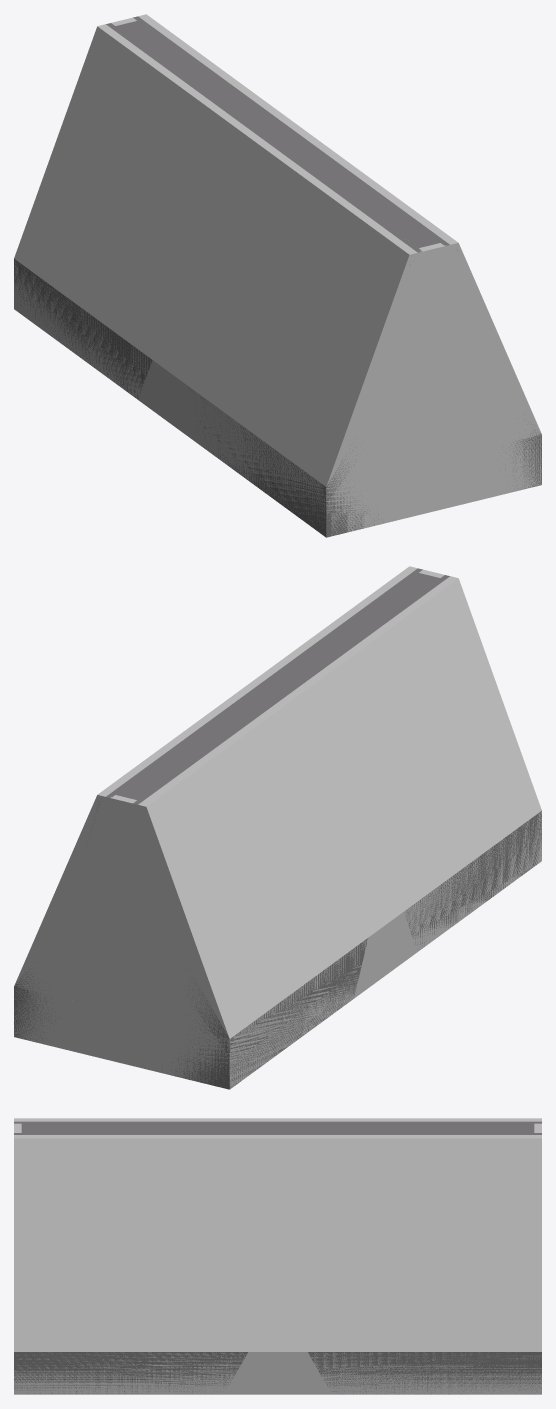
Rendered from SM_Barrier_02_b.fbx.
The picture shows the model from 3 angles, top to bottom: view 1: azimuth 30°, elevation 25°; view 2: azimuth 150°, elevation 25°; view 3: azimuth 270°, elevation 25°; orthographic projection. The views are drawn at different scales.
Visible parts, largest first — view 1: SM_Barrier_02_b_ConvexHulls, SM_Barrier_02_b; view 2: SM_Barrier_02_b_ConvexHulls, SM_Barrier_02_b; view 3: SM_Barrier_02_b_ConvexHulls, SM_Barrier_02_b.
Boxes of the visible parts, bbox=[...] form: SM_Barrier_02_b_ConvexHulls: bbox=[14, 14, 541, 535]; SM_Barrier_02_b: bbox=[14, 16, 541, 537]; SM_Barrier_02_b_ConvexHulls: bbox=[14, 566, 541, 1089]; SM_Barrier_02_b: bbox=[14, 568, 541, 1089]; SM_Barrier_02_b_ConvexHulls: bbox=[14, 1118, 541, 1394]; SM_Barrier_02_b: bbox=[14, 1121, 541, 1394].
Size of the model in its own units: 67.51 by 169 by 78.52.
